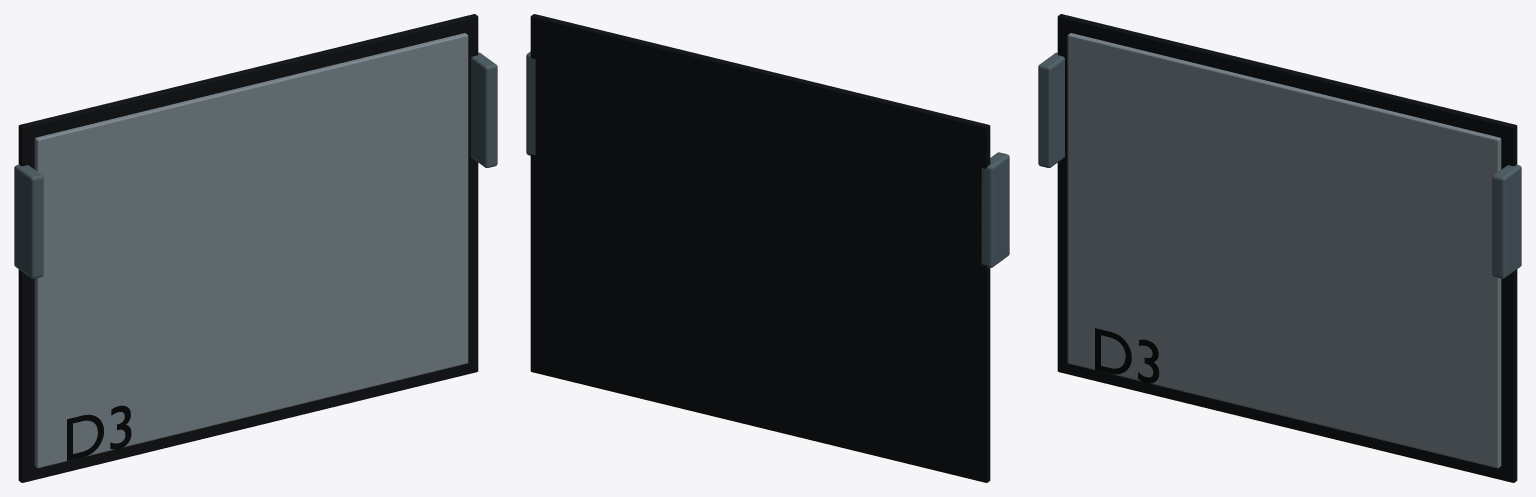
File: slot_d3.obj
3 views of the same model, side by side, from view 1: azimuth 30°, elevation 25°; view 2: azimuth 150°, elevation 25°; view 3: azimuth 330°, elevation 25° (orthographic).
Parts seen in each view (by area): view 1: flex__slot_d3__insert, flex__slot_d3__recess, flex__slot_d3__locator, flex__slot_d3__locator.001, flex__slot_d3__id; view 2: flex__slot_d3__recess, flex__slot_d3__locator, flex__slot_d3__locator.001; view 3: flex__slot_d3__insert, flex__slot_d3__recess, flex__slot_d3__locator.001, flex__slot_d3__locator, flex__slot_d3__id.
Boxes of the visible parts, x1,y1,x2,y2 form: flex__slot_d3__insert: [34, 33, 468, 468]; flex__slot_d3__recess: [18, 14, 478, 482]; flex__slot_d3__locator: [14, 164, 43, 278]; flex__slot_d3__locator.001: [471, 52, 497, 167]; flex__slot_d3__id: [67, 405, 131, 460]; flex__slot_d3__recess: [530, 14, 990, 482]; flex__slot_d3__locator: [981, 152, 1009, 267]; flex__slot_d3__locator.001: [526, 51, 535, 155]; flex__slot_d3__insert: [1067, 33, 1501, 468]; flex__slot_d3__recess: [1057, 14, 1517, 482]; flex__slot_d3__locator.001: [1492, 164, 1521, 278]; flex__slot_d3__locator: [1038, 52, 1064, 167]; flex__slot_d3__id: [1095, 328, 1159, 383].
Size of the model in its own units: 0.144 by 0.105 by 0.01.
